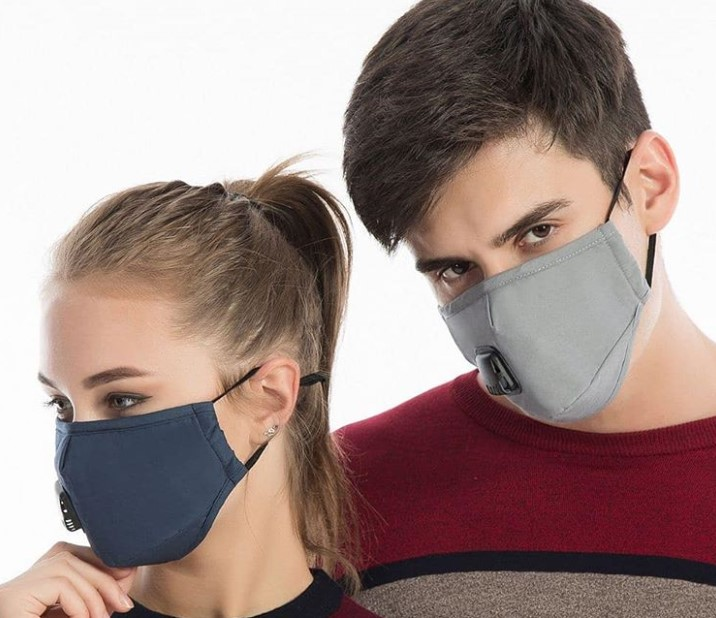face_with_mask: (360, 34, 682, 426), (29, 236, 331, 573)
